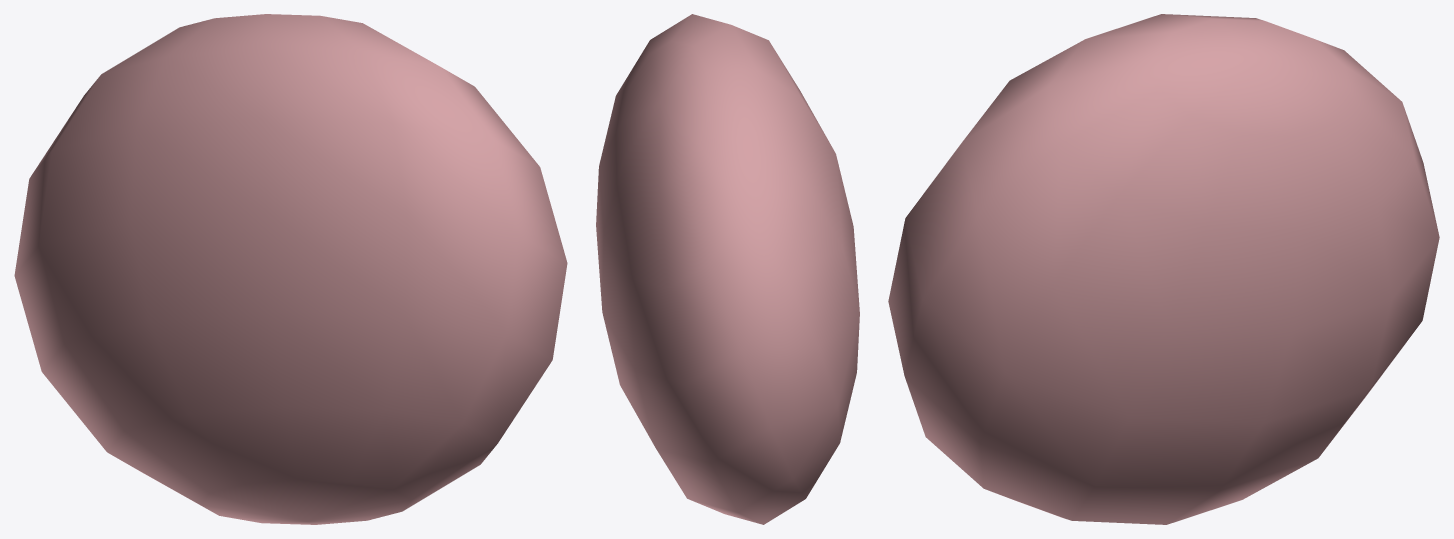
3 views of the same model, side by side, from view 1: azimuth 30°, elevation 25°; view 2: azimuth 150°, elevation 25°; view 3: azimuth 270°, elevation 25° (orthographic). The views are drawn at different scales.
Parts seen in each view (by area): view 1: ZA_a9ef4720e72f7376; view 2: ZA_a9ef4720e72f7376; view 3: ZA_a9ef4720e72f7376.
Boxes of the visible parts, box(x1,y1,x2,y2) form: ZA_a9ef4720e72f7376: box(14, 14, 567, 524); ZA_a9ef4720e72f7376: box(596, 14, 859, 524); ZA_a9ef4720e72f7376: box(888, 14, 1439, 524).
Bounding box in the file's own units: 0.00753 × 0.00988 × 0.0097.
